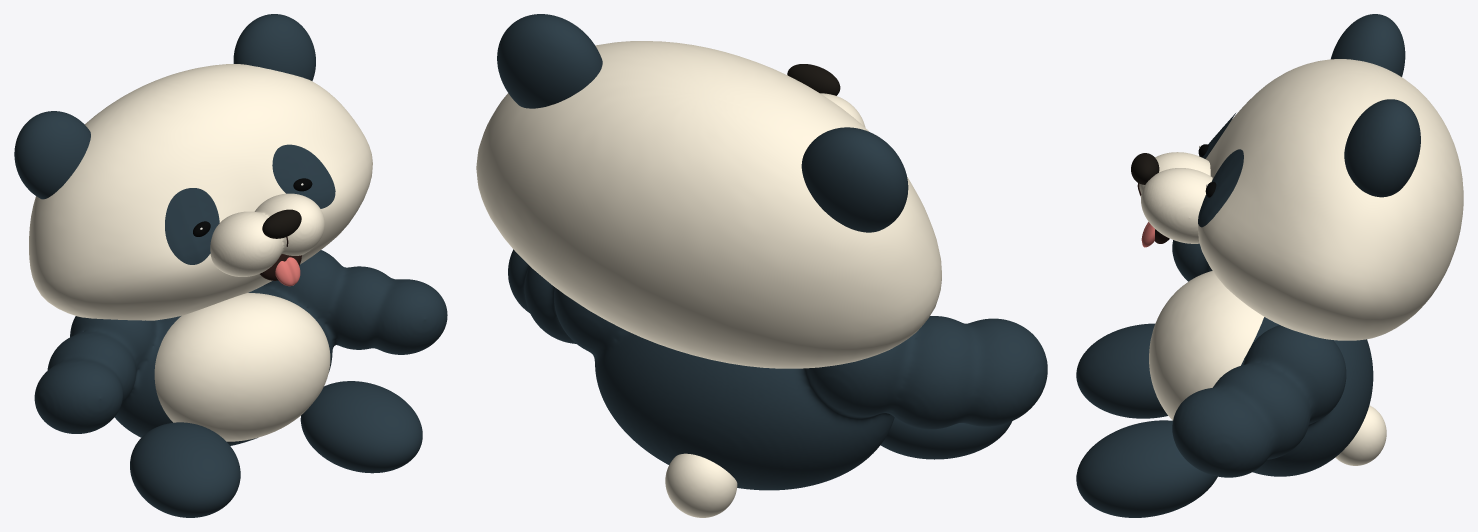
Rendered from panda-sauna-game.glb.
3 views of the same model, side by side, from view 1: azimuth 30°, elevation 25°; view 2: azimuth 150°, elevation 25°; view 3: azimuth 270°, elevation 25° (orthographic). The views are drawn at different scales.
Parts seen in each view (by area): view 1: Panda · belly coat, Panda · round ear, Panda · open resting arms and torso, Panda · soft triangular nose, Panda · soft curled tongue; view 2: Panda · belly coat, Panda · open resting arms and torso, Panda · round ear, Panda · soft triangular nose; view 3: Panda · belly coat, Panda · round ear, Panda · open resting arms and torso, Panda · soft triangular nose.
Part boxes in pixels (x1=…): Panda · belly coat: x1=29, y1=64, x2=372, y2=441; Panda · round ear: x1=14, y1=14, x2=422, y2=517; Panda · open resting arms and torso: x1=34, y1=250, x2=447, y2=445; Panda · soft triangular nose: x1=262, y1=209, x2=301, y2=238; Panda · soft curled tongue: x1=275, y1=257, x2=300, y2=286; Panda · belly coat: x1=476, y1=41, x2=941, y2=517; Panda · open resting arms and torso: x1=508, y1=249, x2=1047, y2=490; Panda · round ear: x1=497, y1=14, x2=1011, y2=459; Panda · soft triangular nose: x1=787, y1=64, x2=840, y2=95; Panda · belly coat: x1=1139, y1=59, x2=1463, y2=465; Panda · round ear: x1=1076, y1=14, x2=1420, y2=517; Panda · open resting arms and torso: x1=1172, y1=240, x2=1373, y2=477; Panda · soft triangular nose: x1=1131, y1=153, x2=1159, y2=184.
Bounding box in the file's own units: 2.81 × 2.46 × 2.07.
